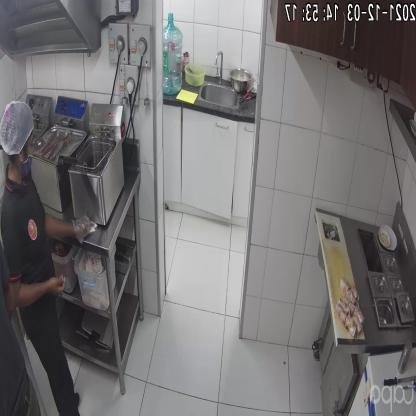no_apron: (8, 176, 68, 331)
